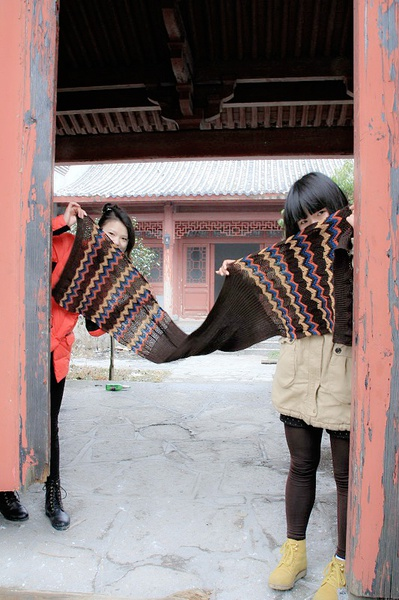face: (293, 203, 330, 240), (99, 220, 125, 257)
